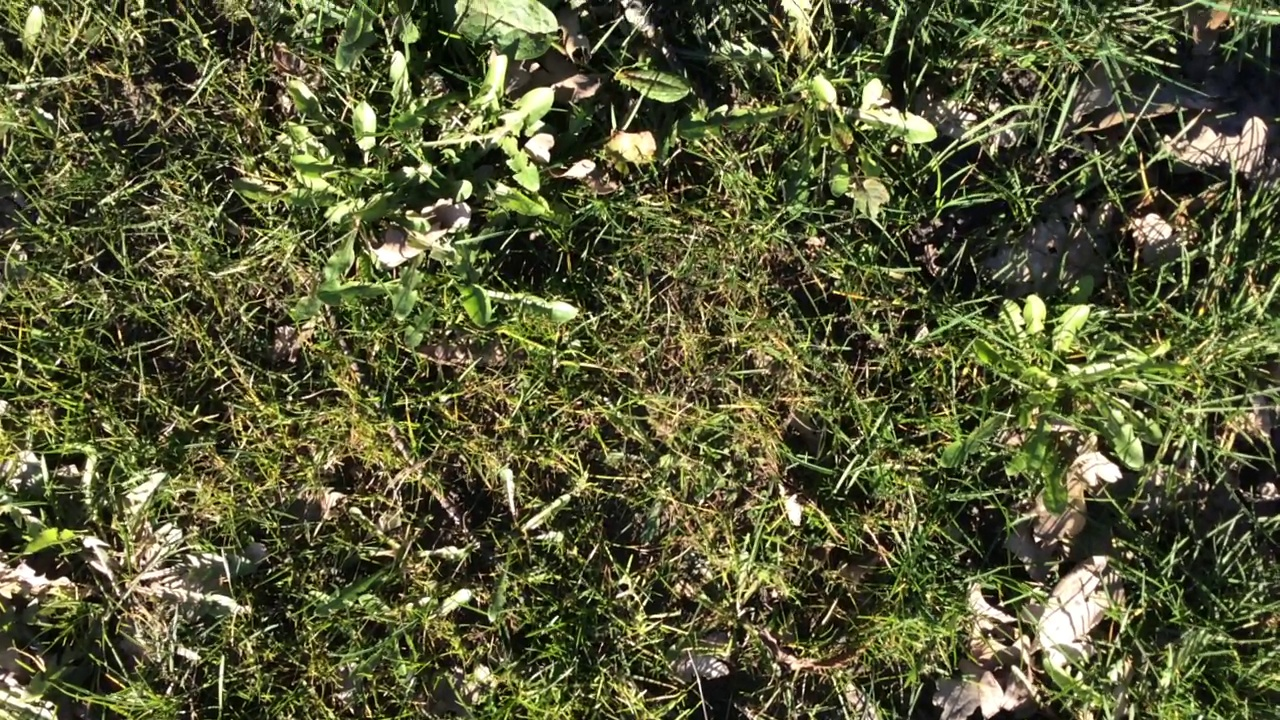rumex: (432, 1, 559, 61), (612, 68, 690, 104)
